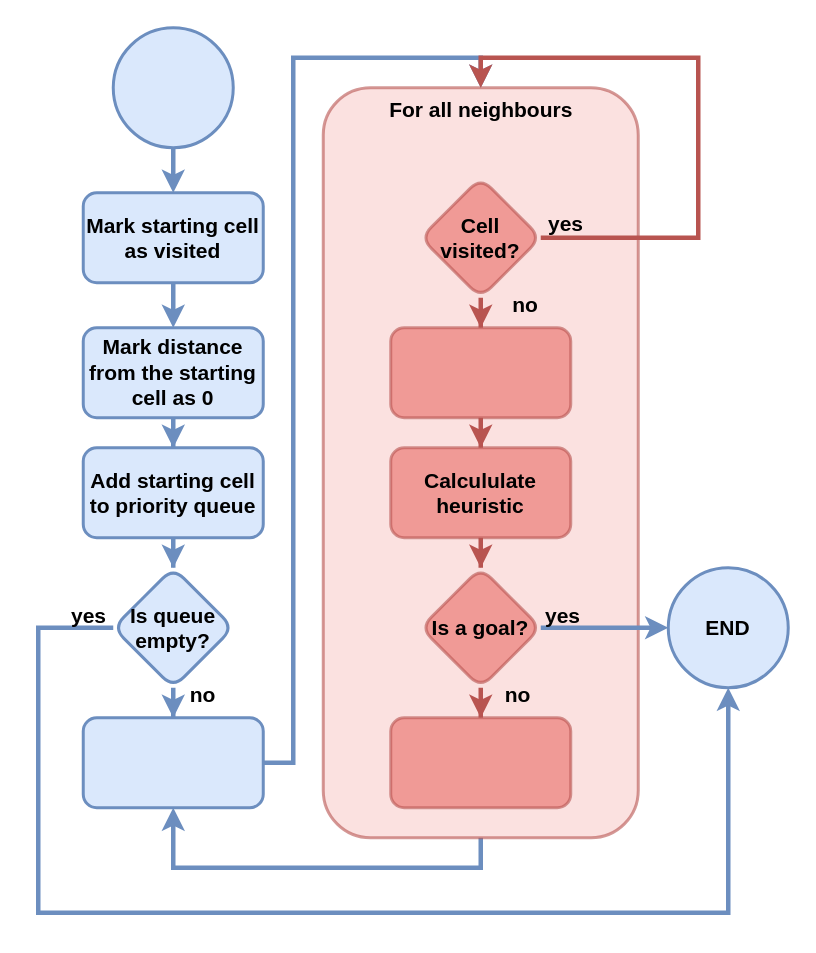
The diagram is 816 pixels wide and 953 high, and some of its shapes have lost their labels. Here are the shapes that lost their labels. From the top down, the centre of each, then its label:
At [172,87]: "START".
At [480,372]: "Mark cell as visited".
At [172,762]: "Expand and pop first cell in the queue".
At [480,762]: "Add to priority queue".
